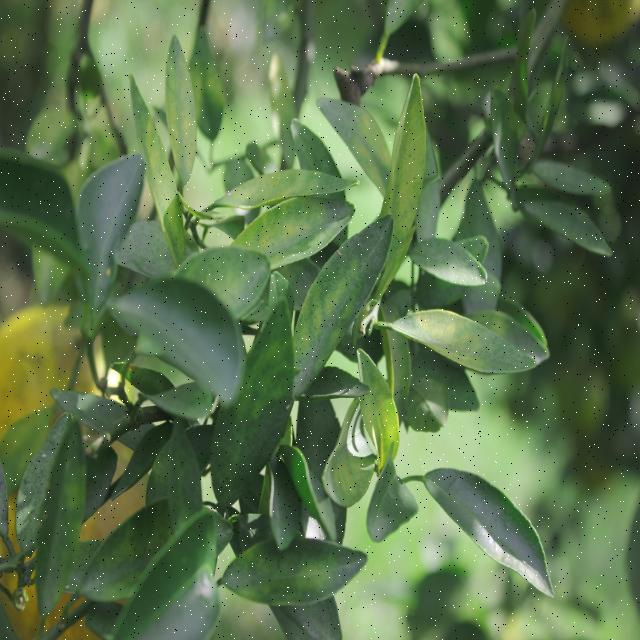blackspot: (288, 225, 391, 387), (380, 75, 428, 272), (416, 314, 535, 376), (138, 128, 187, 262), (237, 200, 343, 258), (222, 172, 314, 214), (138, 222, 191, 268)
